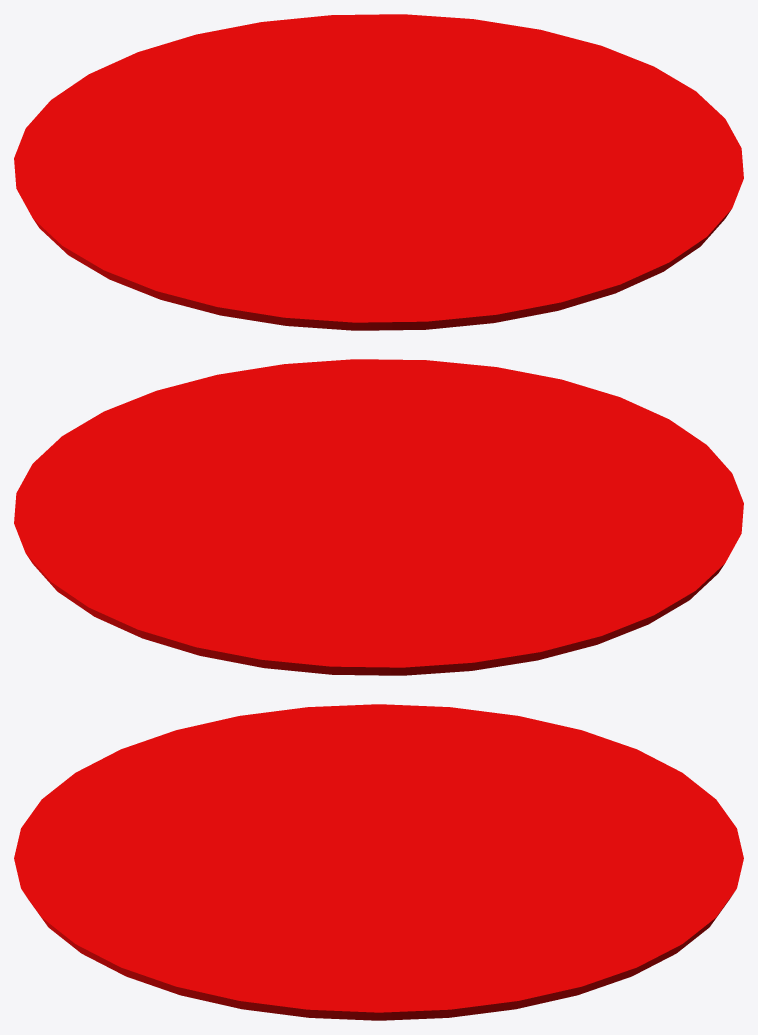
The model's file is rounded.gltf.
3 renders of one model, top to bottom at view 1: azimuth 30°, elevation 25°; view 2: azimuth 150°, elevation 25°; view 3: azimuth 270°, elevation 25°, orthographic.
Visible parts, largest first — view 1: Circle.002; view 2: Circle.002; view 3: Circle.002.
Part boxes in pixels (left/top/right/bottom): Circle.002: left=14, top=14, right=743, bottom=330; Circle.002: left=14, top=359, right=743, bottom=675; Circle.002: left=14, top=704, right=743, bottom=1020.
Bounding box in the file's own units: 5.96 × 0.1004 × 5.96.
